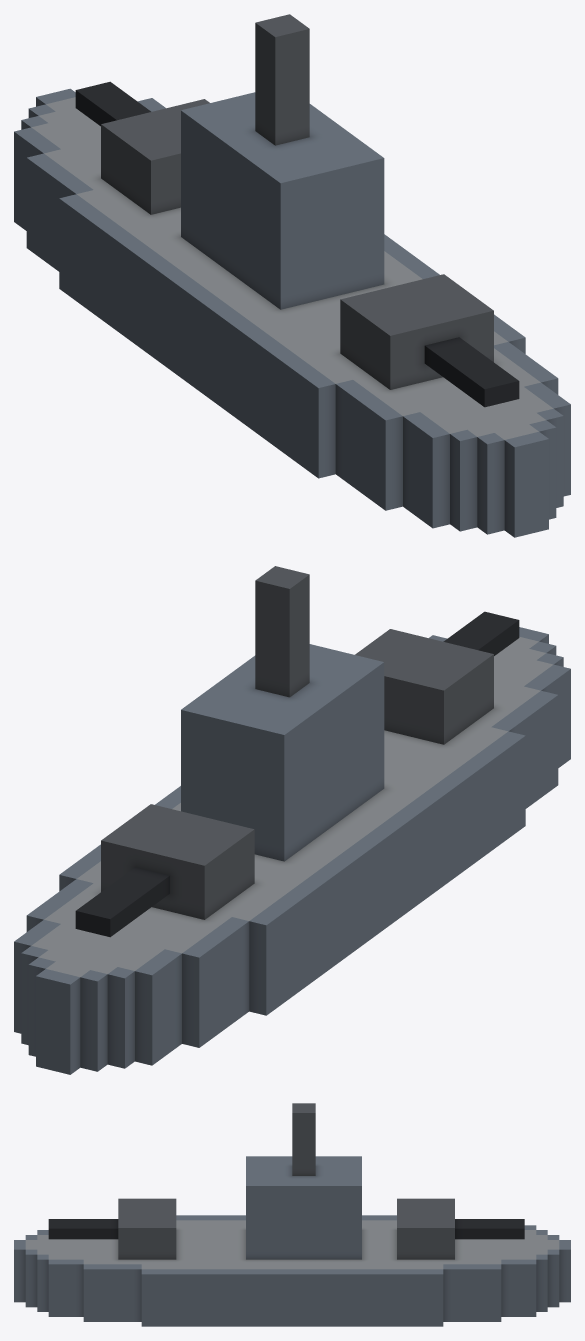
The model's file is u_warship.glb.
3 views of the same model, one above another, from view 1: azimuth 30°, elevation 25°; view 2: azimuth 150°, elevation 25°; view 3: azimuth 270°, elevation 25° (orthographic). The views are drawn at different scales.
Visible parts, largest first — view 1: u_warship_body; view 2: u_warship_body; view 3: u_warship_body.
Part boxes in pixels (x1=…): u_warship_body: x1=14, y1=14, x2=570, y2=537; u_warship_body: x1=14, y1=566, x2=570, y2=1074; u_warship_body: x1=14, y1=1103, x2=570, y2=1326.
Size of the model in its own units: 0.75 by 1.12 by 3.
1 material, 1 textured.
